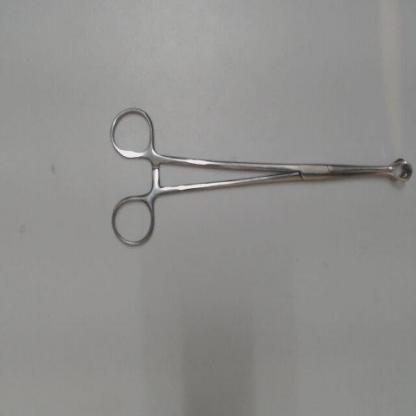8 Babcock Tissue Forceps: (106, 99, 413, 252)
